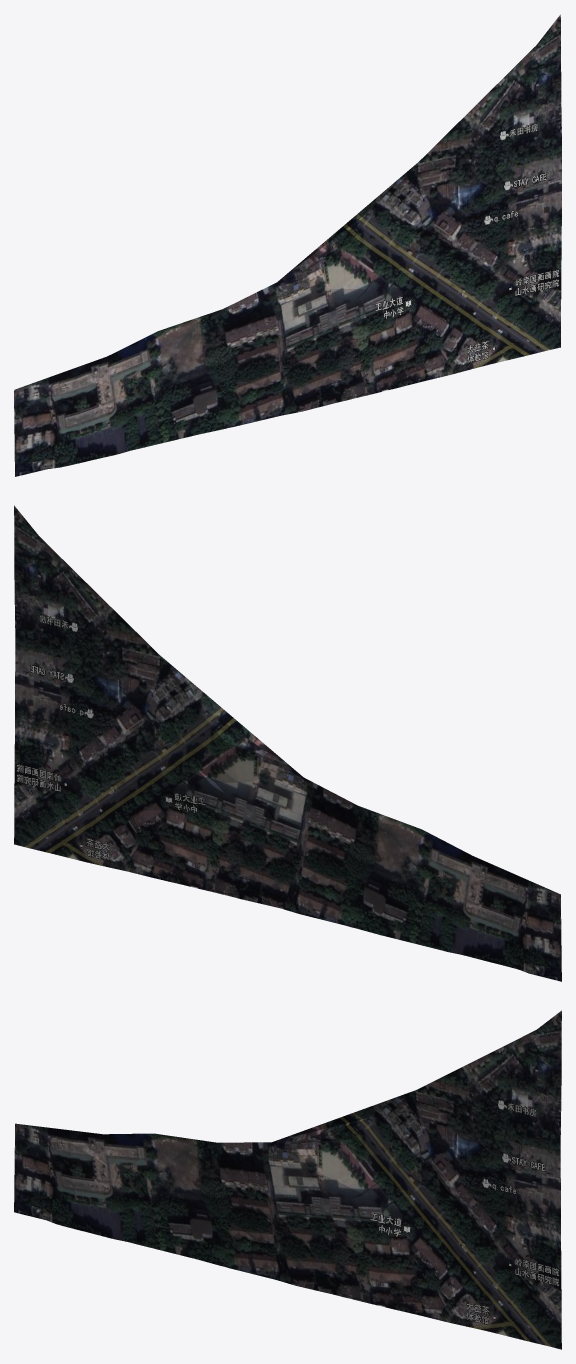
3 renders of one model, top to bottom at view 1: azimuth 30°, elevation 25°; view 2: azimuth 150°, elevation 25°; view 3: azimuth 330°, elevation 25°, orthographic.
Parts seen in each view (by area): view 1: 0_3_2_0_1_0; view 2: 0_3_2_0_1_0; view 3: 0_3_2_0_1_0.
Part boxes in pixels (<box>): 0_3_2_0_1_0: <box>14,14,561,476</box>; 0_3_2_0_1_0: <box>14,505,561,981</box>; 0_3_2_0_1_0: <box>14,1010,561,1349</box>.
Size of the model in its own units: 486 by 286 by 13.51.
Materials: 1 (1 with a texture image).
